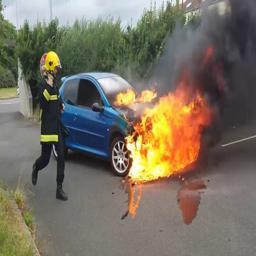fire: (112, 78, 212, 182)
